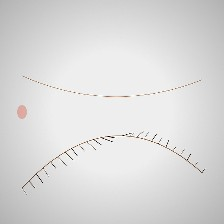foreign_body_visible: (83, 93, 130, 131)
